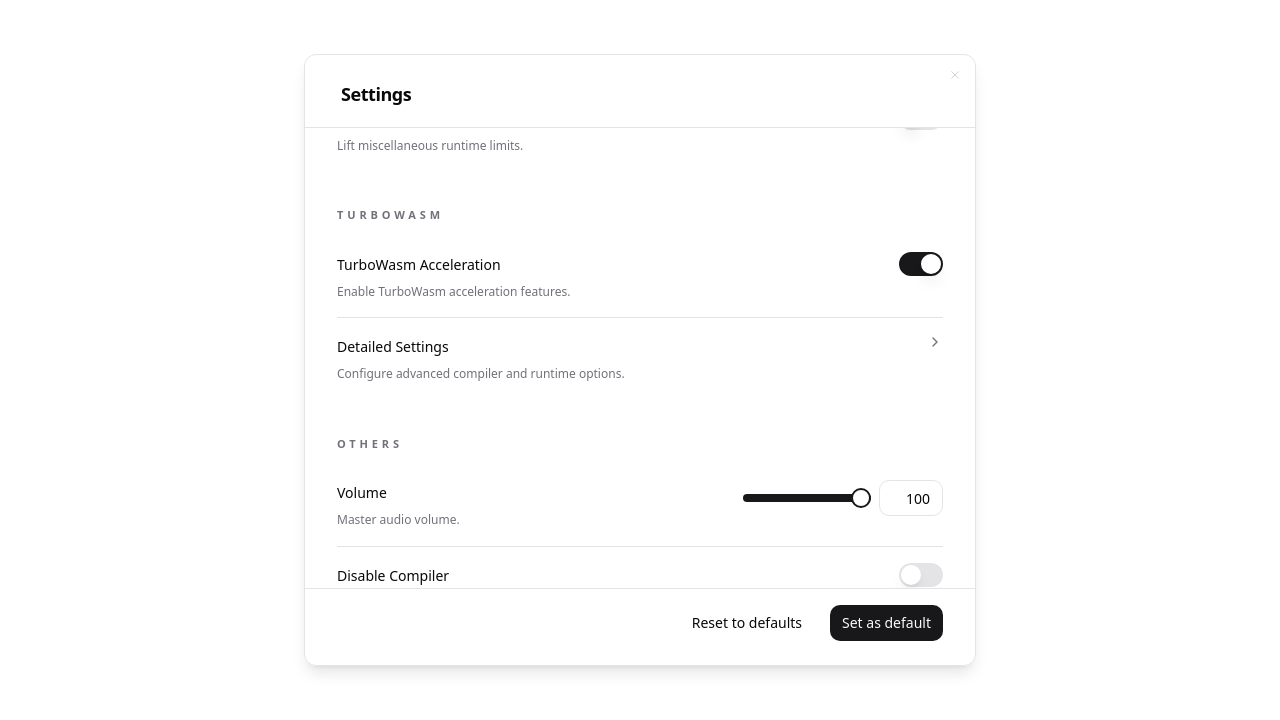
Test: SettingsDialog — Detailed Settings screen (view stack push/pop) › clicking the navigation row pushes the Detailed Settings screen (= canPop becomes true, Back button appears)
(page scrolled)
What coordinates should you click on to do the following:
click the button with test id "settings-detailed-row"
I would click on:
 (393, 346)
Its box is x1=337 y1=317 x2=943 y2=400.
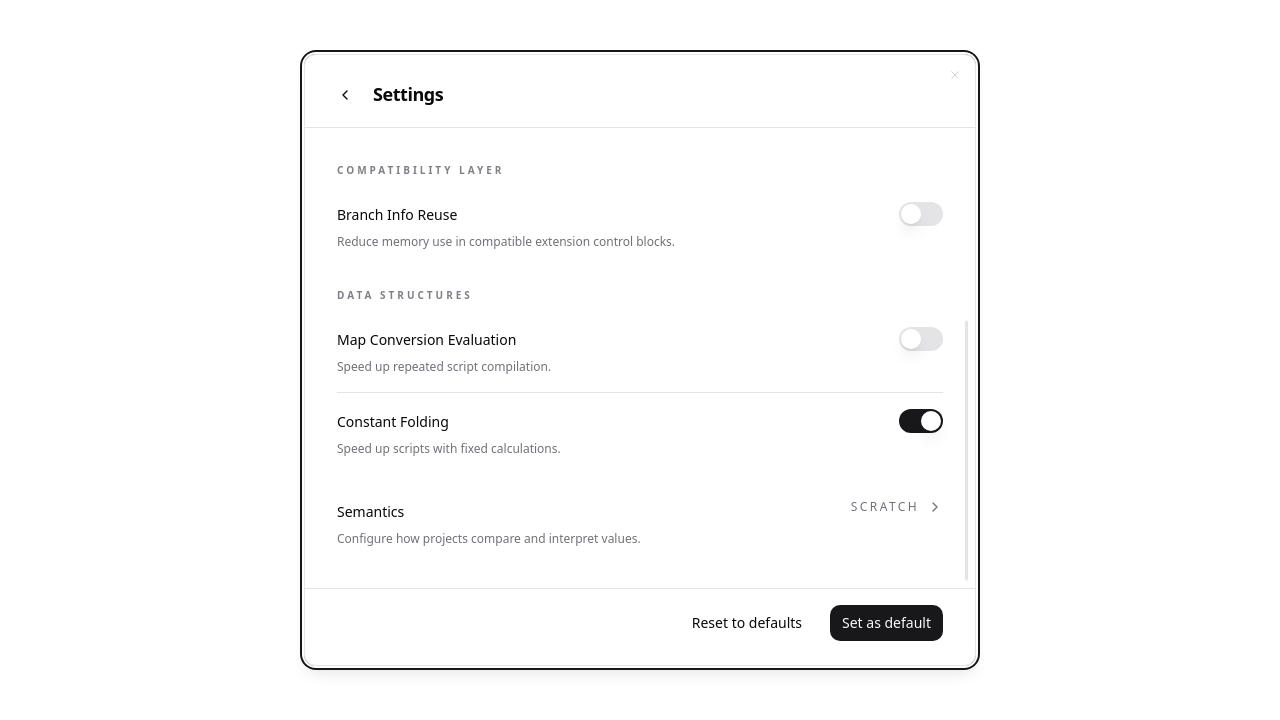
Now the button with test id "settings-back" is shown, box x1=329 y1=79 x2=361 y2=111
Now the heading with test id "settings-section-others" is gone
